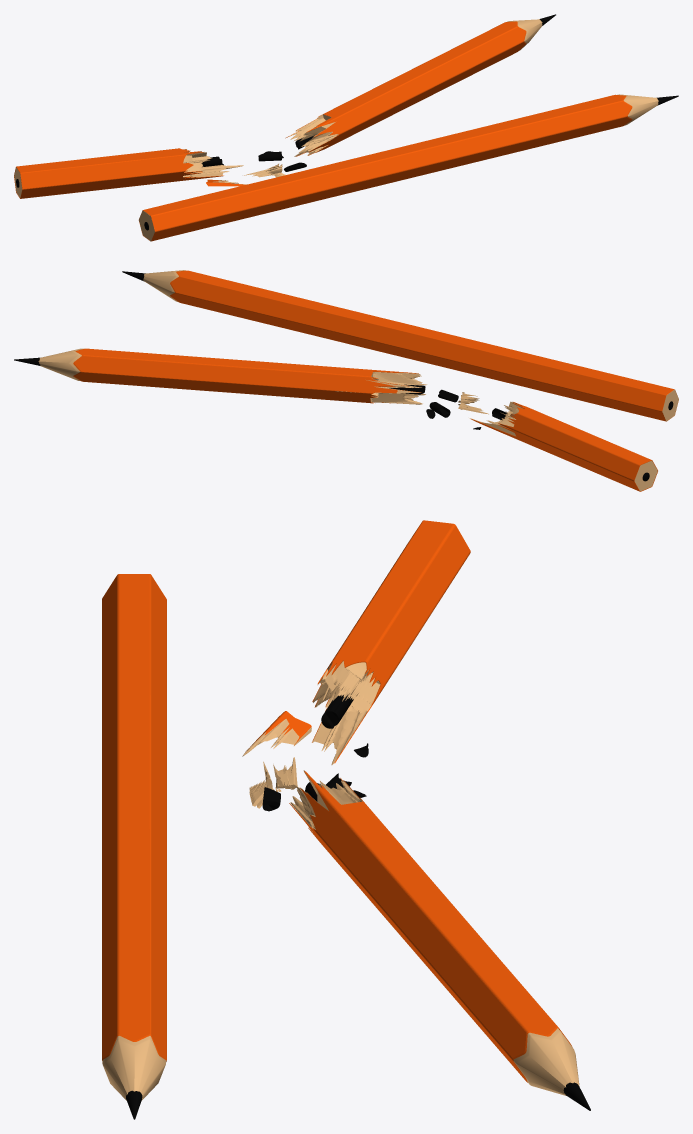
3 views of the same model, one above another, from view 1: azimuth 30°, elevation 25°; view 2: azimuth 150°, elevation 25°; view 3: azimuth 270°, elevation 25° (orthographic). The views are drawn at different scales.
Parts seen in each view (by area): view 1: Цилиндр.004, Цилиндр.005, Цилиндр.002; view 2: Цилиндр.004, Цилиндр.005, Цилиндр.002; view 3: Цилиндр.004, Цилиндр.005, Цилиндр.002, Цилиндр.006.
Part boxes in pixels (<box>): Цилиндр.004: <box>138,94,678,241</box>; Цилиндр.005: <box>285,14,555,156</box>; Цилиндр.002: <box>14,148,243,198</box>; Цилиндр.004: <box>122,270,678,421</box>; Цилиндр.005: <box>14,348,427,404</box>; Цилиндр.002: <box>469,401,657,491</box>; Цилиндр.004: <box>102,574,166,1119</box>; Цилиндр.005: <box>289,770,590,1110</box>; Цилиндр.002: <box>312,520,470,764</box>; Цилиндр.006: <box>242,711,311,756</box>.
Bounding box in the file's own units: 17.49 × 0.925 × 6.3.
